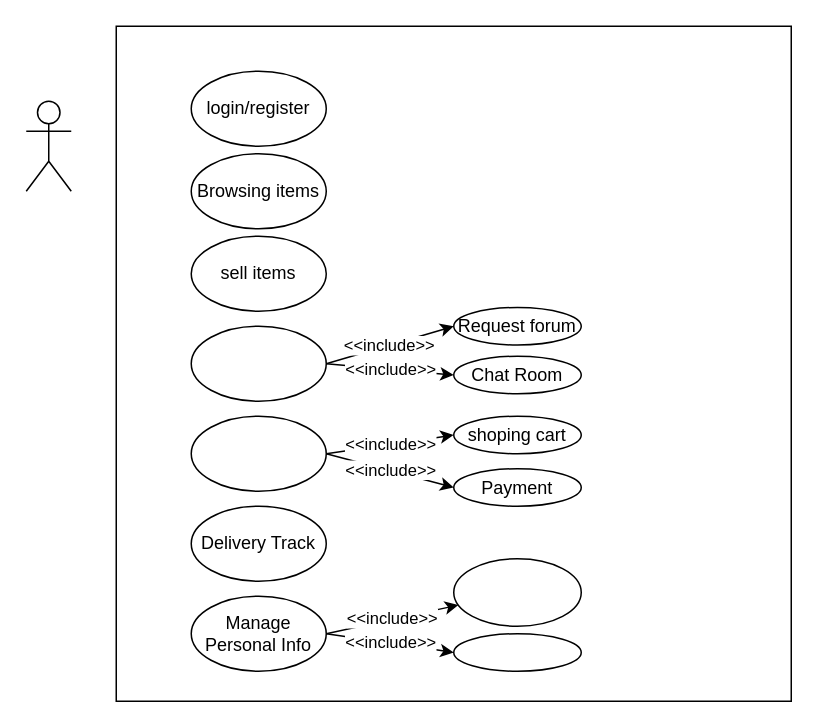
This 818x728 diagram has some shape labels left out. The shapes that lost their labels are listed below. From the top down, each one's box as (x1, y1, x2, y2) in pixels, then its label:
(25, 100, 71, 191): Actor
(190, 325, 326, 401): ask to buy
(190, 415, 326, 491): Buy Item
(452, 557, 581, 626): Manage name/passwd
(452, 632, 581, 671): Manage other info
